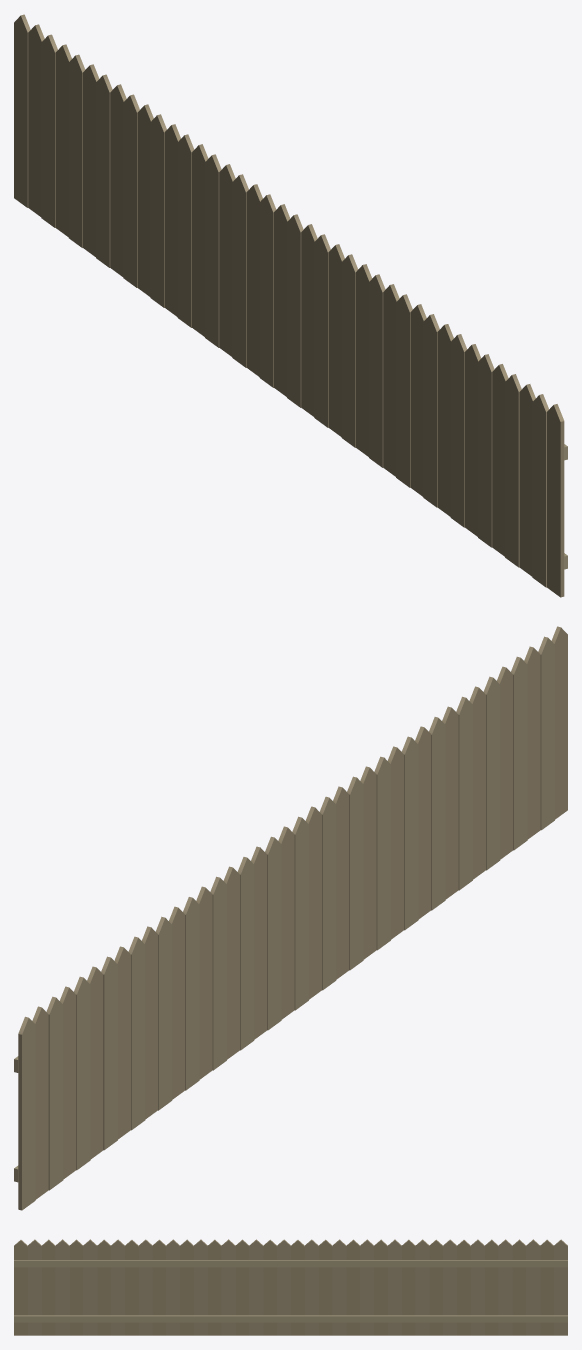
The model's file is fence_40posts.fbx.
The picture shows the model from 3 angles, top to bottom: view 1: azimuth 30°, elevation 25°; view 2: azimuth 150°, elevation 25°; view 3: azimuth 270°, elevation 25°; orthographic projection. The views are drawn at different scales.
Visible parts, largest first — view 1: pCube143, pCube139, pCube151, pCube159, pCube170, pCube175, pCube146, pCube147, pCube158, pCube179, pCube182, pCube186 (+28 smaller); view 2: pCube186, pCube187, pCube139, pCube154, pCube159, pCube146, pCube149, pCube175, pCube182, pCube147, pCube161, pCube167 (+28 smaller); view 3: pCube139, pCube149, pCube159, pCube161, pCube187, pCube141, pCube167, pCube174, pCube180, pCube189, pCube155, pCube157 (+44 smaller).
Boxes of the visible parts, box(x1,y1,x2,y2) form: pCube143: box(547, 404, 564, 597); pCube139: box(505, 374, 521, 567); pCube151: box(369, 274, 385, 467); pCube159: box(314, 234, 330, 427); pCube170: box(259, 194, 276, 387); pCube175: box(177, 134, 194, 327); pCube146: box(423, 314, 439, 507); pCube147: box(450, 334, 467, 527); pCube158: box(287, 214, 303, 407); pCube179: box(96, 74, 112, 267); pCube182: box(123, 94, 139, 287); pCube186: box(14, 14, 30, 207); pCube186: box(18, 1016, 35, 1210); pCube187: box(46, 996, 63, 1190); pCube139: box(511, 656, 527, 850); pCube154: box(401, 736, 418, 930); pCube159: box(319, 796, 336, 990); pCube146: box(429, 717, 445, 910); pCube149: box(483, 676, 500, 870); pCube175: box(183, 897, 199, 1090); pCube182: box(128, 936, 145, 1130); pCube147: box(456, 696, 472, 890); pCube161: box(347, 776, 363, 970); pCube167: box(237, 857, 254, 1050); pCube139: box(55, 1239, 69, 1335); pCube149: box(83, 1239, 97, 1335); pCube159: box(249, 1239, 263, 1335); pCube161: box(221, 1239, 235, 1335); pCube187: box(526, 1239, 540, 1335); pCube141: box(41, 1239, 55, 1335); pCube167: box(332, 1239, 346, 1335); pCube174: box(415, 1239, 429, 1335); pCube180: box(484, 1239, 498, 1335); pCube189: box(498, 1239, 512, 1335); pCube155: box(152, 1239, 166, 1335); pCube157: box(263, 1239, 277, 1335).
Size of the model in its own units: 0.0484 by 1.07 by 5.64.
